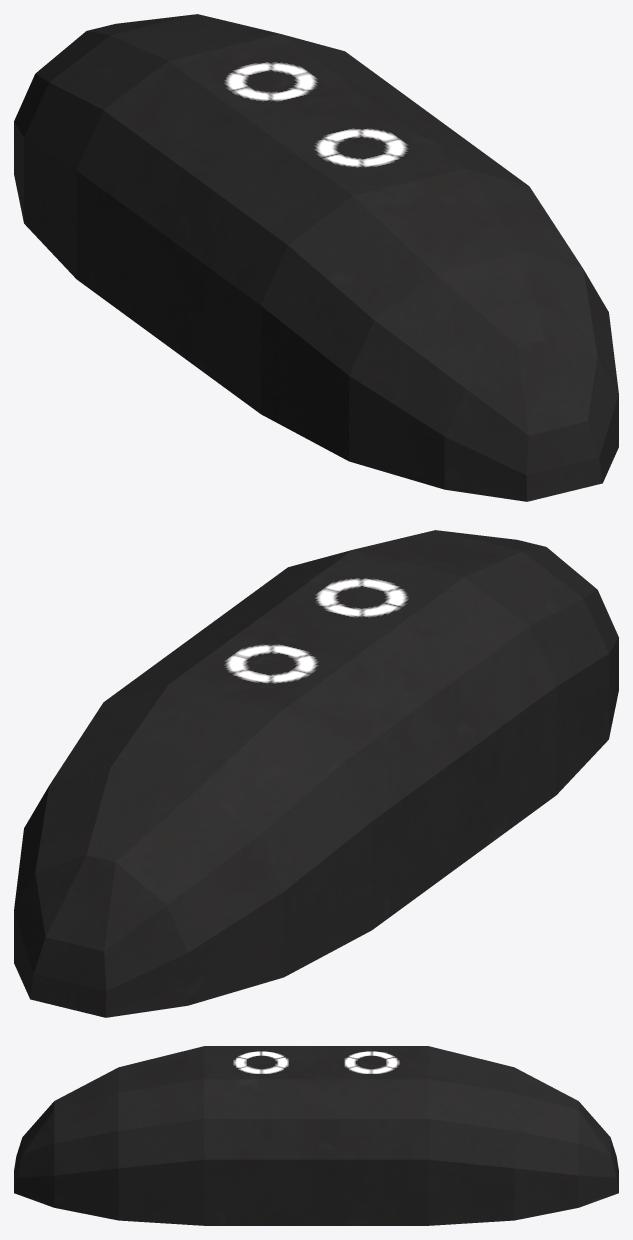
File: side_box_4.fbx
3 renders of one model, top to bottom at view 1: azimuth 30°, elevation 25°; view 2: azimuth 150°, elevation 25°; view 3: azimuth 270°, elevation 25°, orthographic. The views are drawn at different scales.
Parts seen in each view (by area): view 1: side_box_4; view 2: side_box_4; view 3: side_box_4.
Part boxes in pixels (x1,y1,x2,y2): side_box_4: (14, 14, 618, 501); side_box_4: (14, 530, 618, 1017); side_box_4: (14, 1046, 618, 1225).
Size of the model in its own units: 3.7 by 2.34 by 10.78.
